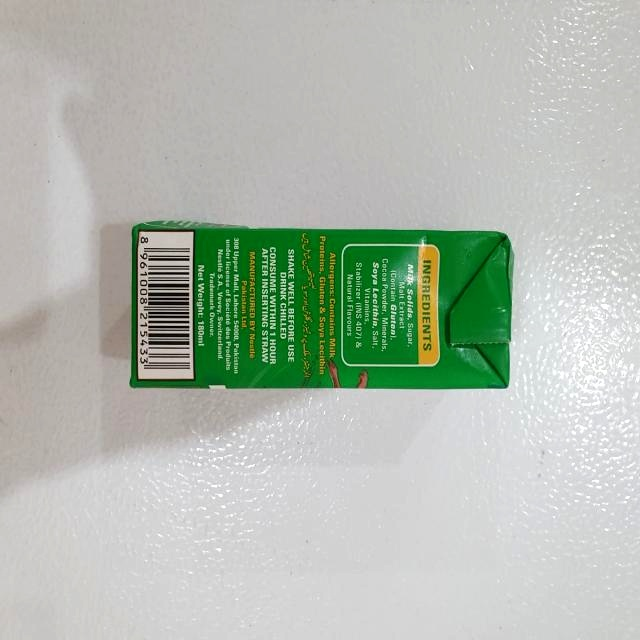milo-180ml: (133, 228, 509, 384)
